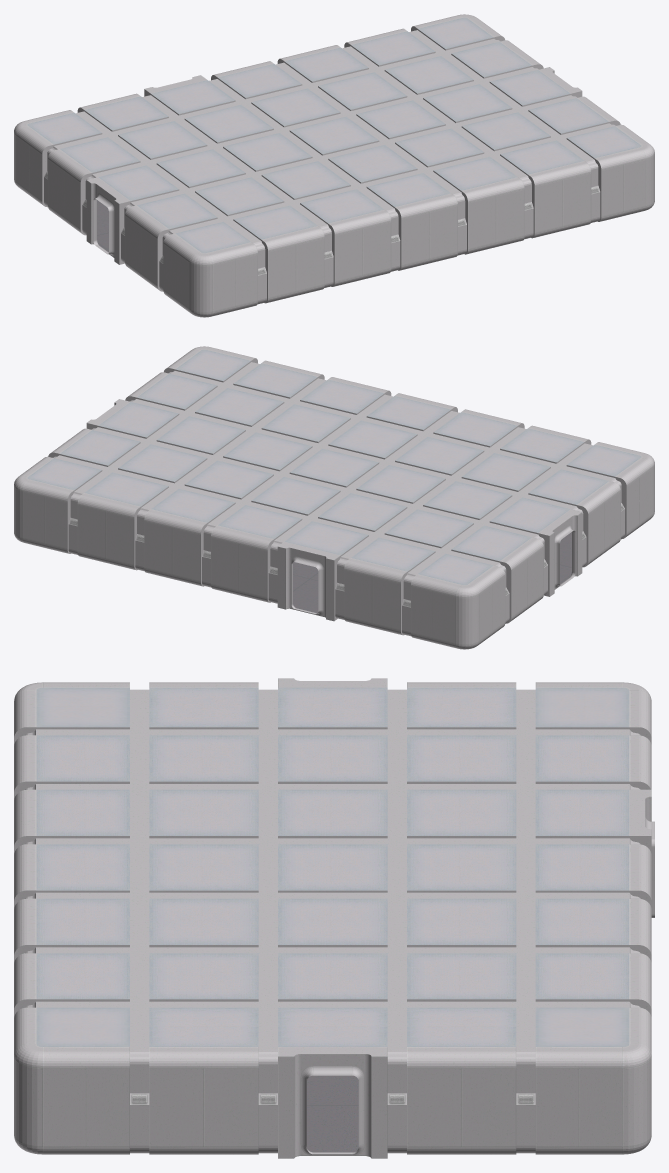
File: thm_spc_corvette_dungeon_r7_barracks7_mesh_r7.fbx
The picture shows the model from 3 angles, top to bottom: view 1: azimuth 30°, elevation 25°; view 2: azimuth 150°, elevation 25°; view 3: azimuth 270°, elevation 25°; orthographic projection. The views are drawn at different scales.
Parts seen in each view (by area): view 1: mesh_node; view 2: mesh_node; view 3: mesh_node.
Boxes of the visible parts, x1=… form: mesh_node: x1=14, y1=14, x2=654, y2=317; mesh_node: x1=14, y1=346, x2=654, y2=649; mesh_node: x1=14, y1=678, x2=654, y2=1158.
Size of the model in its own units: 28 by 3.5 by 19.9.
